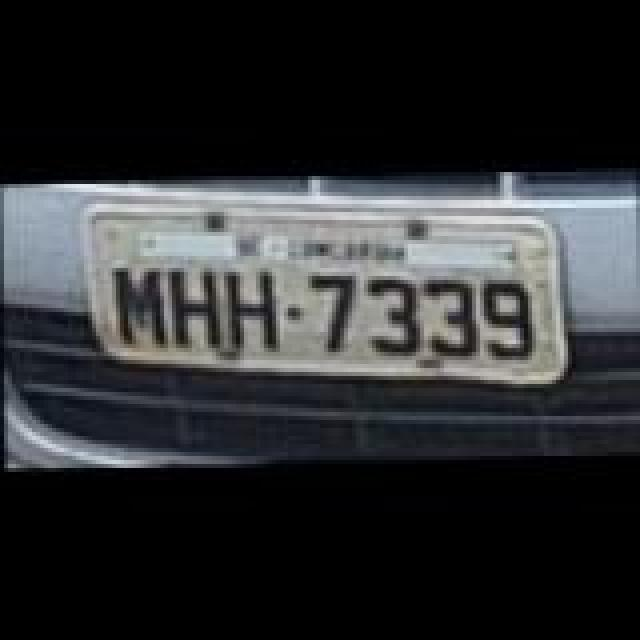3: (420, 276, 480, 356), (364, 276, 424, 356)
7: (306, 270, 362, 350)
9: (480, 276, 540, 360)
H: (168, 264, 228, 344), (222, 268, 278, 348)
M: (110, 266, 174, 350)
